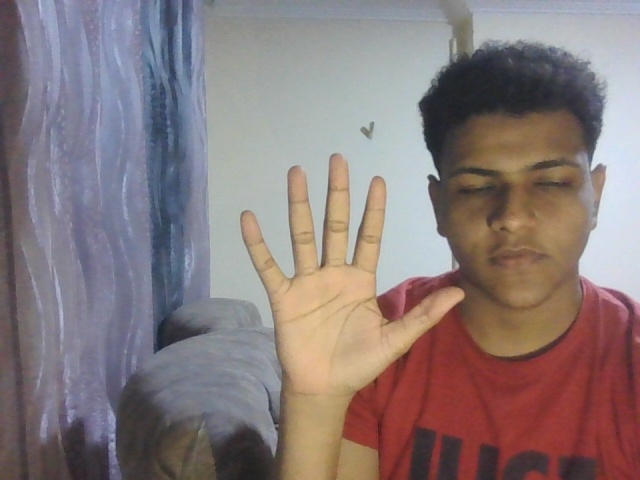Hello: (235, 145, 459, 398)
